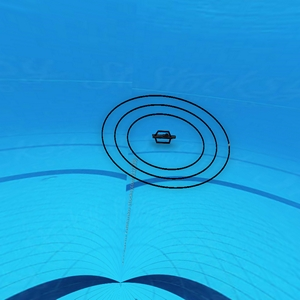circle: (100, 92, 227, 190)
submarine: (153, 128, 178, 146)
